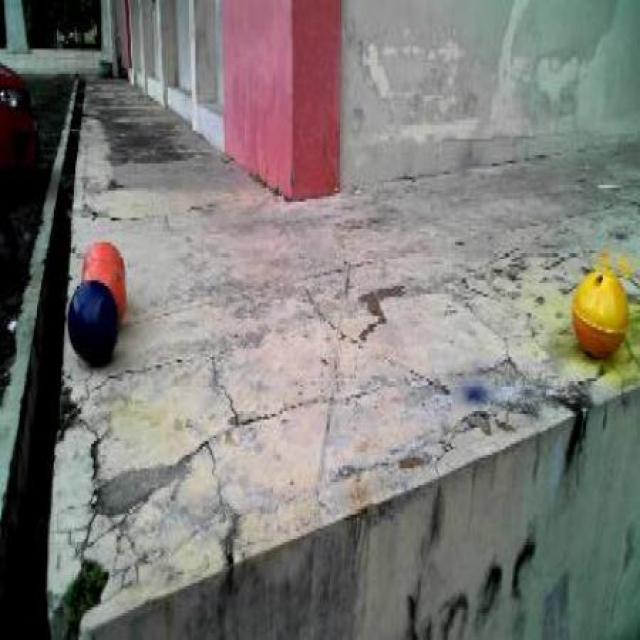buoy: (569, 253, 634, 371), (63, 265, 122, 369), (78, 248, 131, 322), (79, 231, 127, 284)
